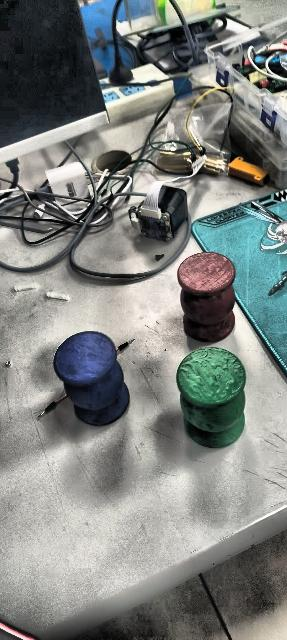blue: (53, 330, 131, 426)
green: (176, 347, 251, 450)
red: (172, 243, 238, 350)
